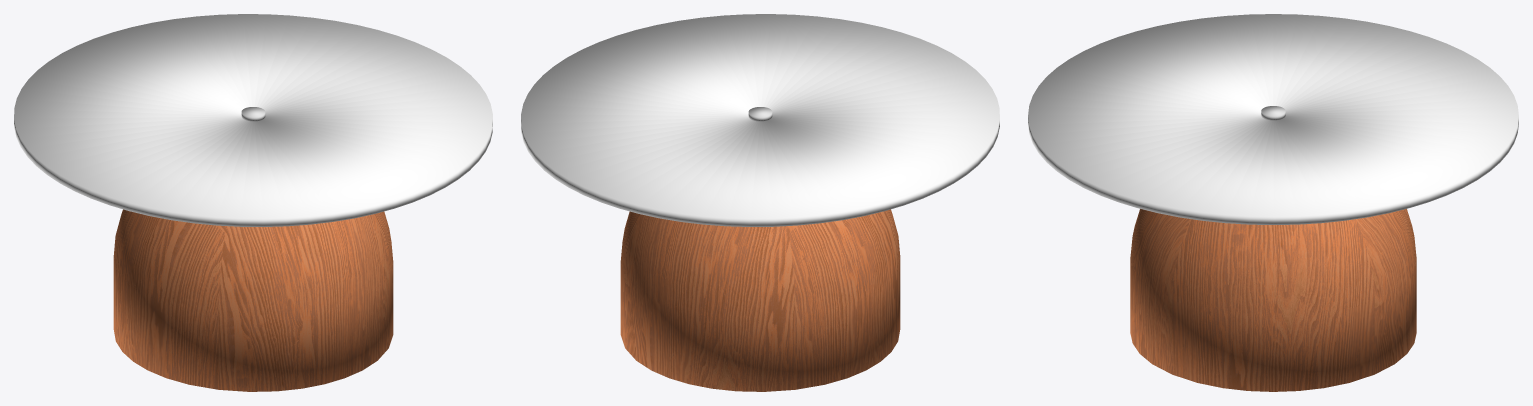
Rendered from asset.glb.
3 renders of one model, left to right at view 1: azimuth 30°, elevation 25°; view 2: azimuth 150°, elevation 25°; view 3: azimuth 270°, elevation 25°, orthographic.
Parts seen in each view (by area): view 1: Glass small, Wood small; view 2: Glass small, Wood small; view 3: Glass small, Wood small.
Part boxes in pixels (bbox=[...]): Glass small: bbox=[14, 14, 492, 226]; Wood small: bbox=[113, 209, 393, 391]; Glass small: bbox=[521, 14, 999, 226]; Wood small: bbox=[620, 209, 900, 391]; Glass small: bbox=[1028, 14, 1518, 224]; Wood small: bbox=[1130, 209, 1416, 391].
Bounding box in the file's own units: 5.46 × 2.79 × 5.58.
Materials: 3 (1 with a texture image).
